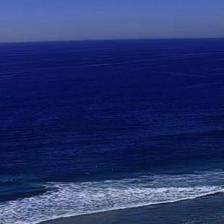surfer: (141, 166, 149, 169), (163, 168, 170, 170), (86, 171, 90, 174), (12, 178, 15, 181), (97, 165, 100, 168), (113, 168, 116, 171), (221, 168, 223, 170)
